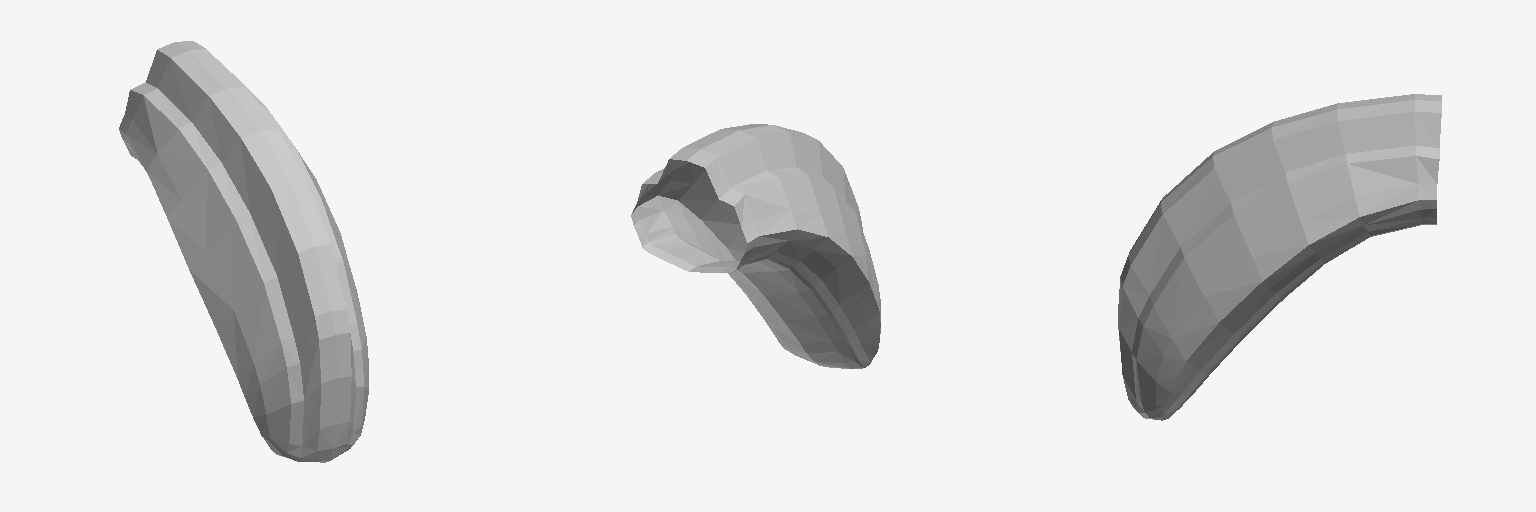
File: Cola.obj
3 renders of one model, left to right at view 1: azimuth 30°, elevation 25°; view 2: azimuth 150°, elevation 25°; view 3: azimuth 270°, elevation 25°, orthographic.
Parts seen in each view (by area): view 1: polySurface8 polySurface7 polySurface5 Mesh; view 2: polySurface8 polySurface7 polySurface5 Mesh; view 3: polySurface8 polySurface7 polySurface5 Mesh.
Part boxes in pixels (bbox=[...]): polySurface8 polySurface7 polySurface5 Mesh: bbox=[119, 41, 368, 462]; polySurface8 polySurface7 polySurface5 Mesh: bbox=[631, 124, 880, 368]; polySurface8 polySurface7 polySurface5 Mesh: bbox=[1118, 94, 1441, 420].
Bounding box in the file's own units: 0.6052 × 1.19 × 1.13.